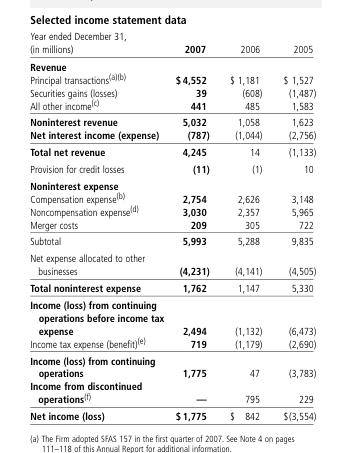table: (29, 29, 315, 421)
table column: (29, 29, 169, 421), (218, 29, 271, 421), (169, 29, 218, 421), (271, 29, 315, 421)
table column header: (29, 29, 315, 57)
table projected row header: (29, 57, 315, 71), (29, 176, 315, 190)
table row: (29, 295, 315, 335), (29, 249, 315, 279), (29, 29, 315, 57), (29, 351, 315, 379), (29, 379, 315, 407), (29, 143, 315, 160), (29, 232, 315, 249), (29, 97, 315, 113), (29, 160, 315, 176), (29, 279, 315, 295), (29, 335, 315, 351), (29, 113, 315, 128), (29, 128, 315, 143), (29, 217, 315, 232), (29, 57, 315, 71), (29, 71, 315, 85), (29, 176, 315, 190), (29, 203, 315, 217), (29, 407, 315, 421), (29, 190, 315, 203), (29, 85, 315, 97)
